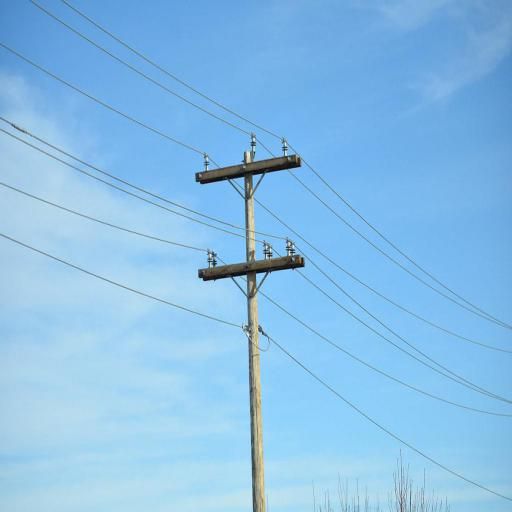mono_8: (194, 138, 306, 511)
